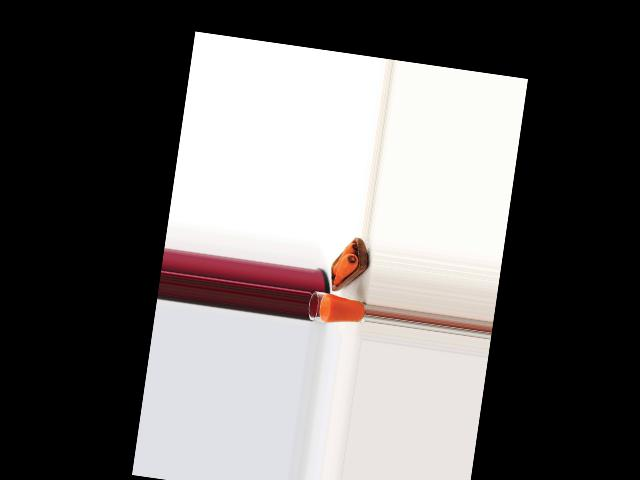carrot: (333, 239, 360, 274)
